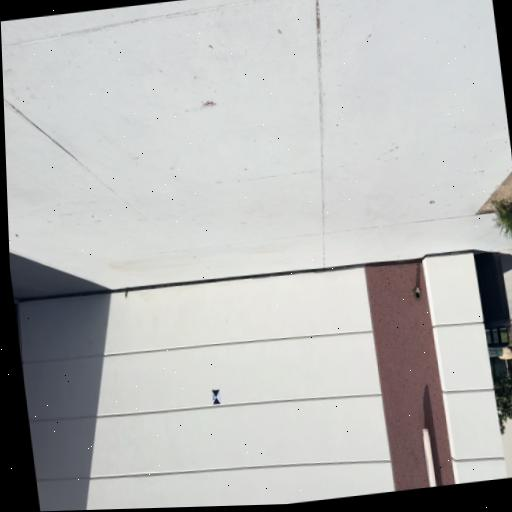target7: (211, 389, 221, 405)
